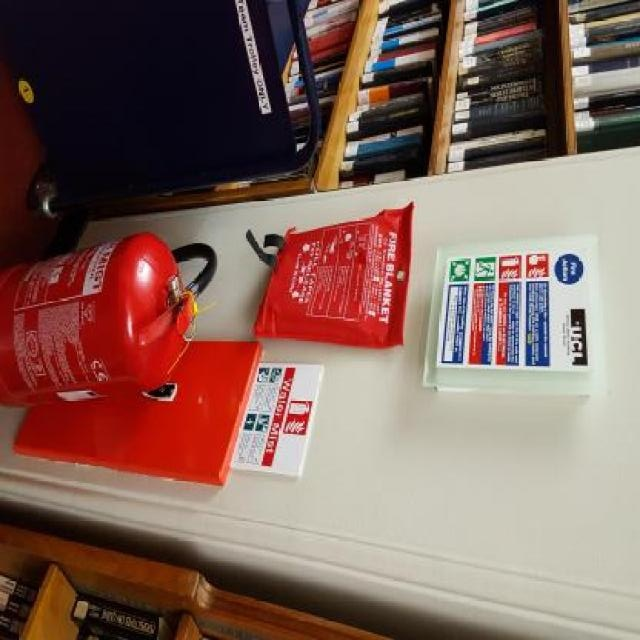fire extinguisher: (2, 234, 216, 408)
